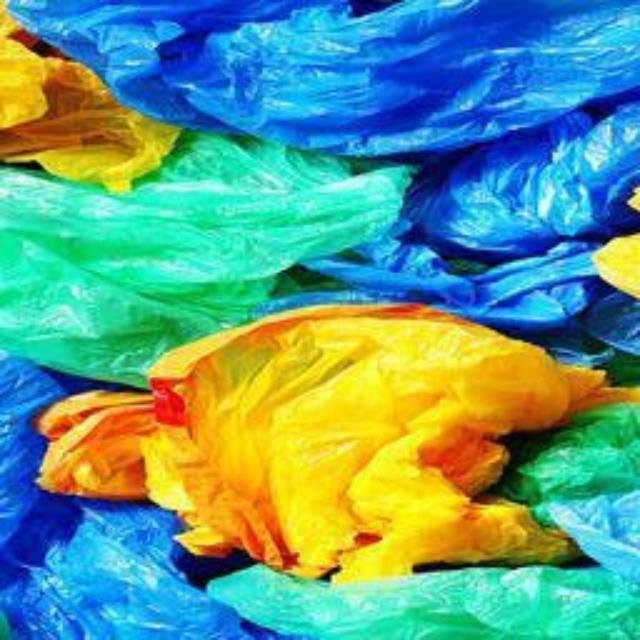Bolsa-de-nilon: (34, 305, 640, 587), (0, 125, 415, 390), (6, 0, 640, 158)
